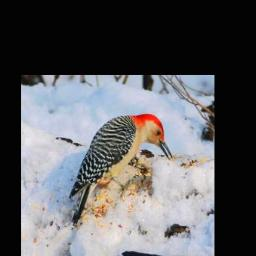Woodpecker: (66, 112, 174, 230)
